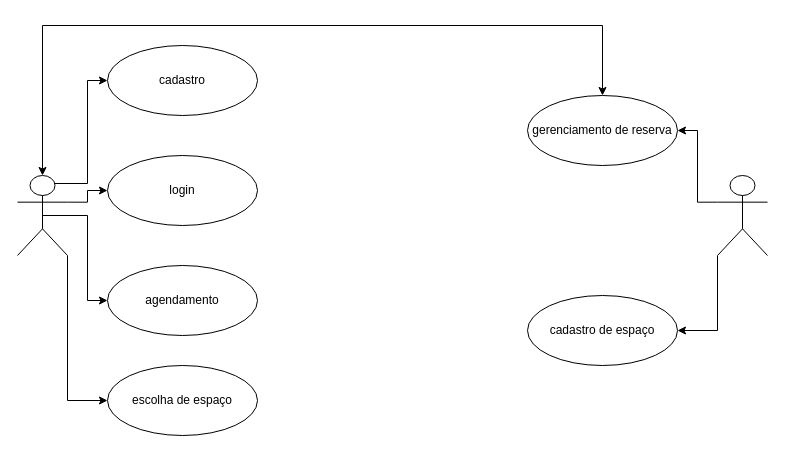
Some shapes in this 797 by 453 pixel diagram are drawn without their labels. Each missing label, with the centre of its shape:
Administrador: point 742,215
Cliente: point 42,215
